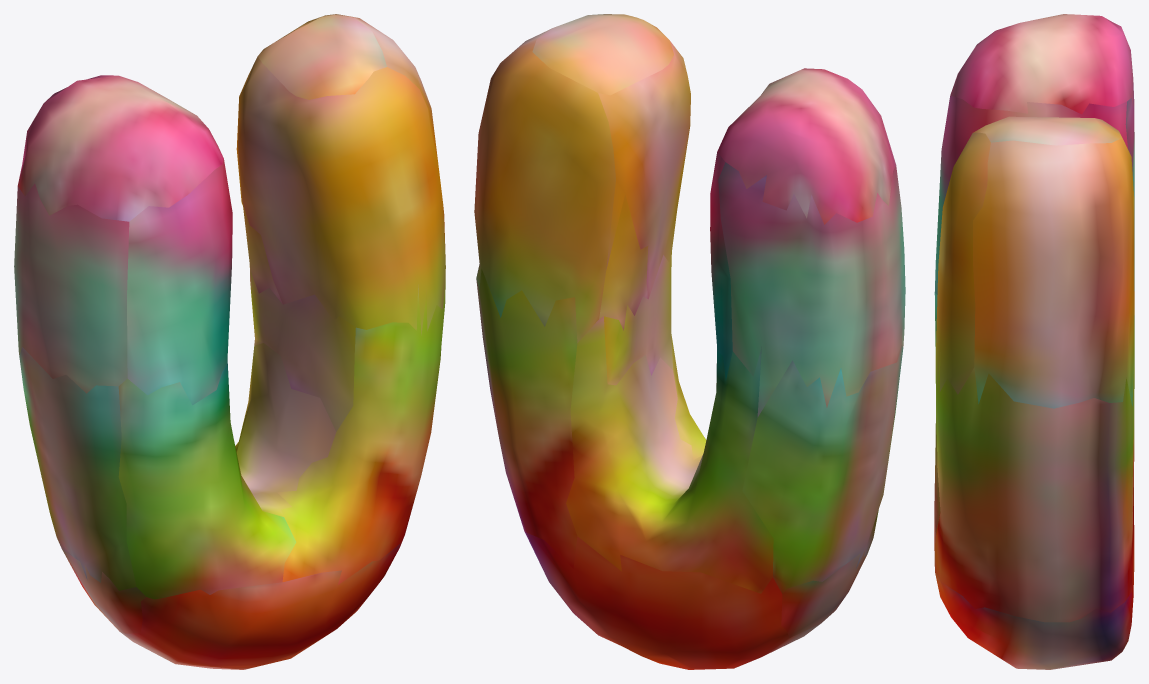
3 renders of one model, left to right at view 1: azimuth 30°, elevation 25°; view 2: azimuth 150°, elevation 25°; view 3: azimuth 270°, elevation 25°, orthographic. The views are drawn at different scales.
Parts seen in each view (by area): view 1: Candy-Letter-U; view 2: Candy-Letter-U; view 3: Candy-Letter-U.
Boxes of the visible parts, box(x1,y1,x2,y2) form: Candy-Letter-U: box(14, 14, 445, 669); Candy-Letter-U: box(474, 14, 905, 669); Candy-Letter-U: box(934, 14, 1134, 669).
Size of the model in its own units: 0.243 by 0.3502 by 0.1098.
Materials: 1 (1 with a texture image).
